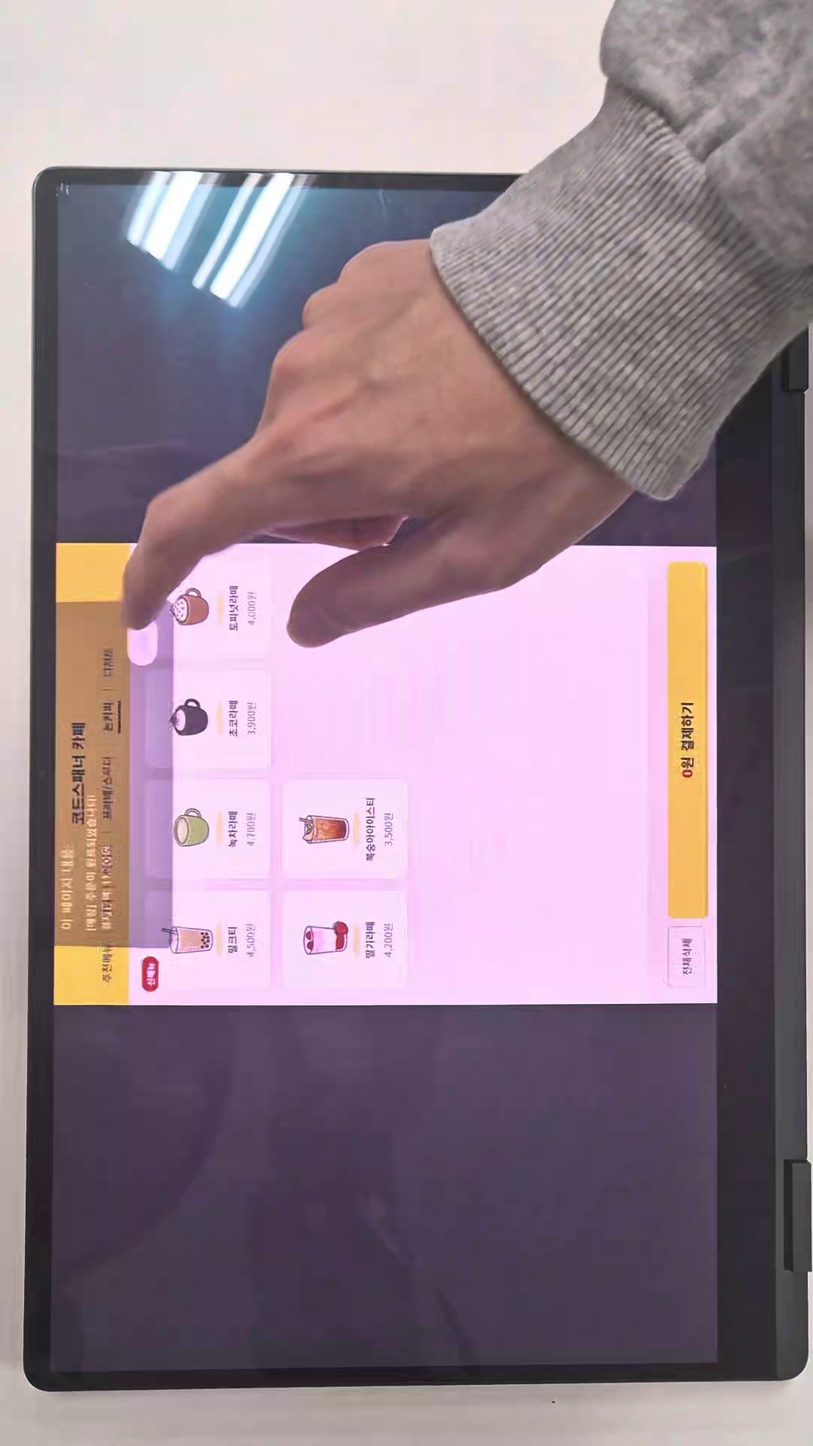action_button: (666, 562, 708, 918), (668, 926, 705, 987)
category_tab: (101, 944, 113, 984)
menu_back: (146, 669, 272, 770), (144, 779, 271, 879), (283, 779, 408, 879), (283, 890, 408, 986), (144, 891, 270, 986)
menu_name: (363, 796, 376, 862), (363, 919, 377, 960), (228, 585, 239, 632), (227, 810, 239, 849), (228, 698, 239, 738), (226, 925, 239, 956)
menu_price: (243, 923, 258, 958), (382, 812, 395, 847), (382, 921, 394, 958), (245, 701, 257, 736), (245, 812, 257, 847), (246, 591, 257, 626)
popup_modal: (54, 602, 173, 947)
